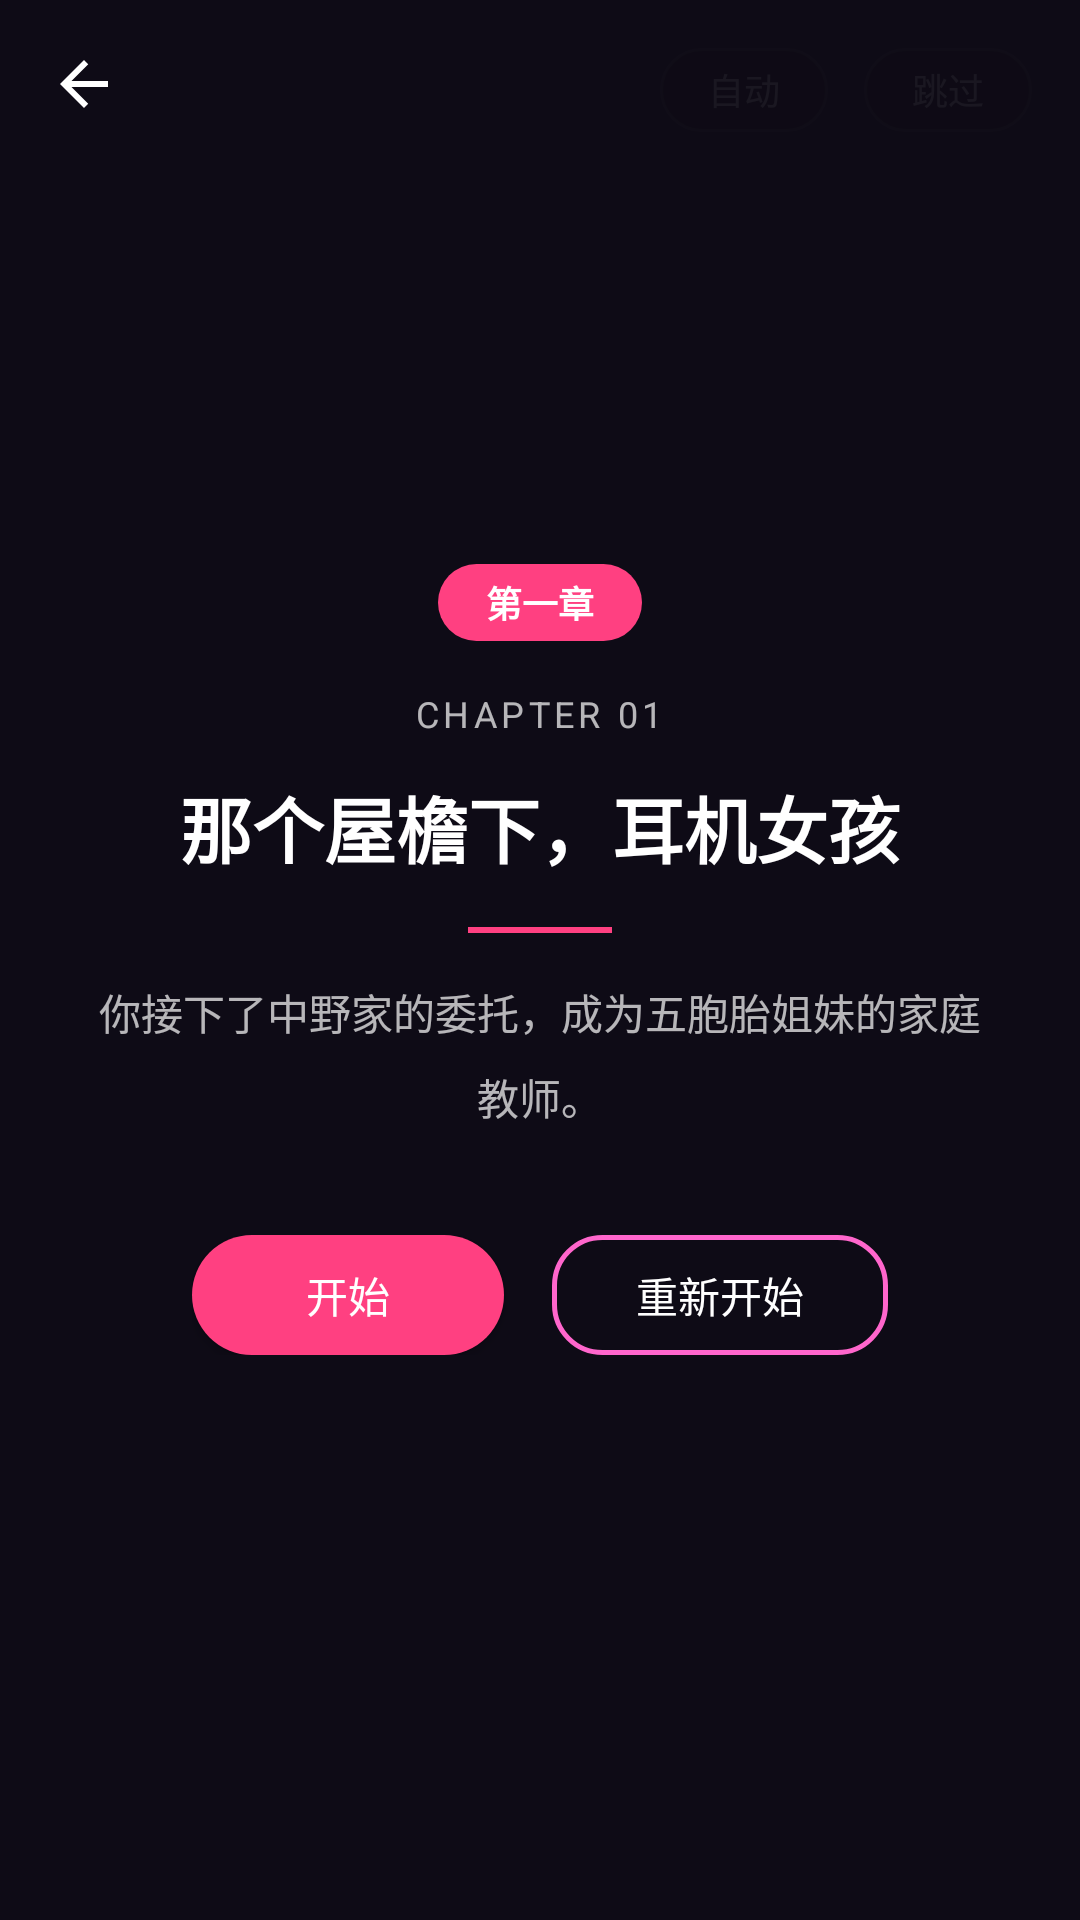

Icon click points for this 1080x1920 phone screenshot, format point (x, y):
返回: point (84, 84)
